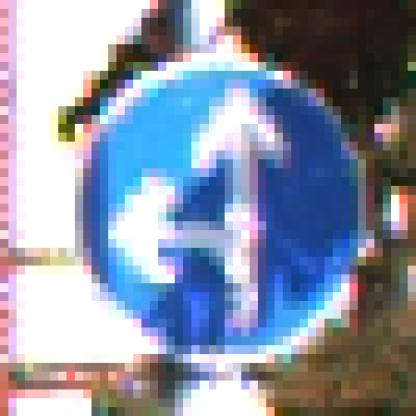Straight or Left: (51, 45, 367, 373)
